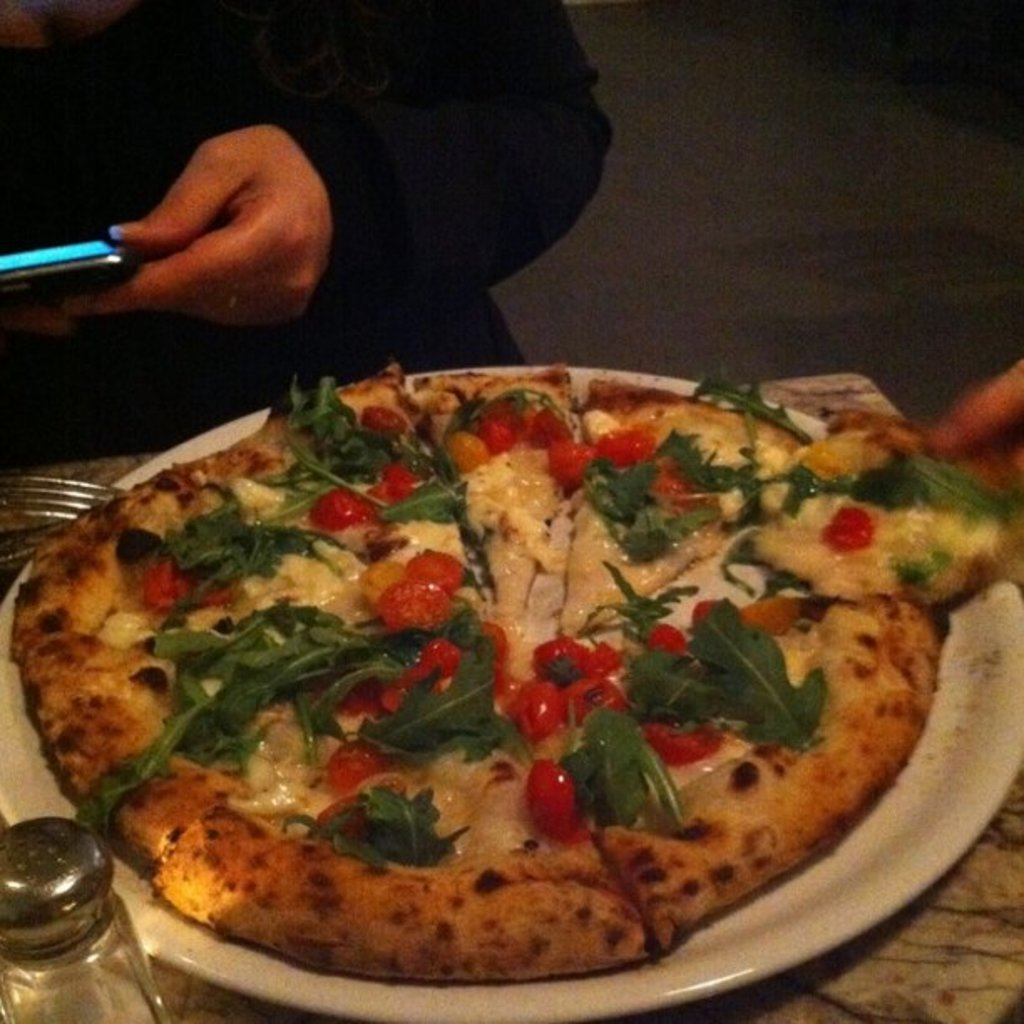Pizza: (16, 329, 980, 972)
